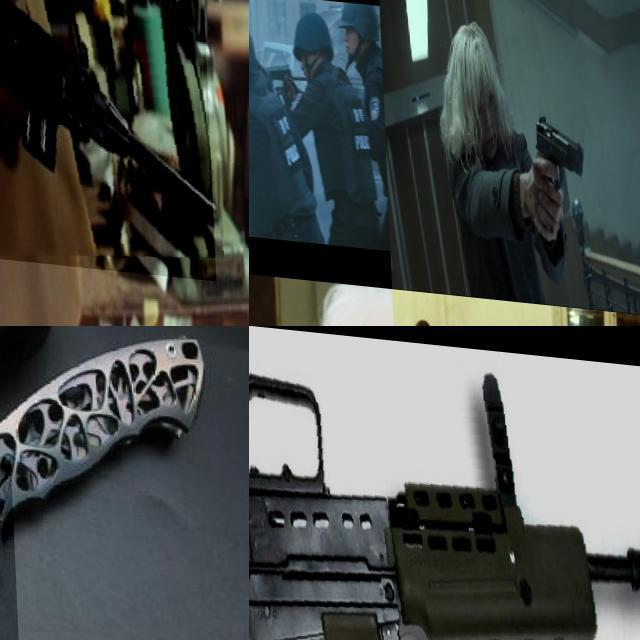-: (0, 420, 183, 640)
gun-knife-thesis - v11 Yolov5 augmented: (249, 326, 640, 640), (0, 0, 212, 269), (528, 101, 584, 234), (249, 59, 264, 88)
